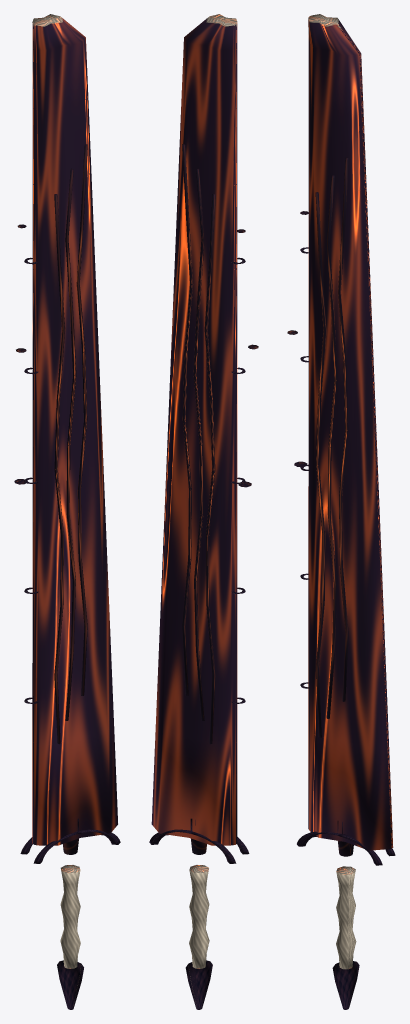
File: sword_12_hellfire_executioner.glb
3 views of the same model, side by side, from view 1: azimuth 30°, elevation 25°; view 2: azimuth 150°, elevation 25°; view 3: azimuth 330°, elevation 25° (orthographic).
Parts seen in each view (by area): view 1: Blade_HellfireCleaver, Inlay_HellfireCracks, Grip_BoneWrap, Pommel_AshDrop, Guard_HoodArc; view 2: Blade_HellfireCleaver, Inlay_HellfireCracks, Grip_BoneWrap, Pommel_AshDrop, Guard_HoodArc; view 3: Blade_HellfireCleaver, Inlay_HellfireCracks, Grip_BoneWrap, Pommel_AshDrop, Guard_HoodArc.
Boxes of the visible parts, <box> form: Blade_HellfireCleaver: <box>32,14,117,845</box>; Inlay_HellfireCracks: <box>54,144,87,744</box>; Grip_BoneWrap: <box>60,865,80,968</box>; Pommel_AshDrop: <box>57,960,83,1009</box>; Guard_HoodArc: <box>20,818,120,863</box>; Blade_HellfireCleaver: <box>151,14,237,845</box>; Inlay_HellfireCracks: <box>182,144,215,744</box>; Grip_BoneWrap: <box>189,865,209,968</box>; Pommel_AshDrop: <box>185,960,212,1009</box>; Guard_HoodArc: <box>149,818,249,863</box>; Blade_HellfireCleaver: <box>308,14,393,850</box>; Inlay_HellfireCracks: <box>315,157,348,737</box>; Grip_BoneWrap: <box>336,866,356,969</box>; Pommel_AshDrop: <box>332,961,359,1009</box>; Guard_HoodArc: <box>297,821,395,865</box>.
Size of the model in its own units: 0.2826 by 2.6 by 0.0819.
Materials: 1 (1 with a texture image).
